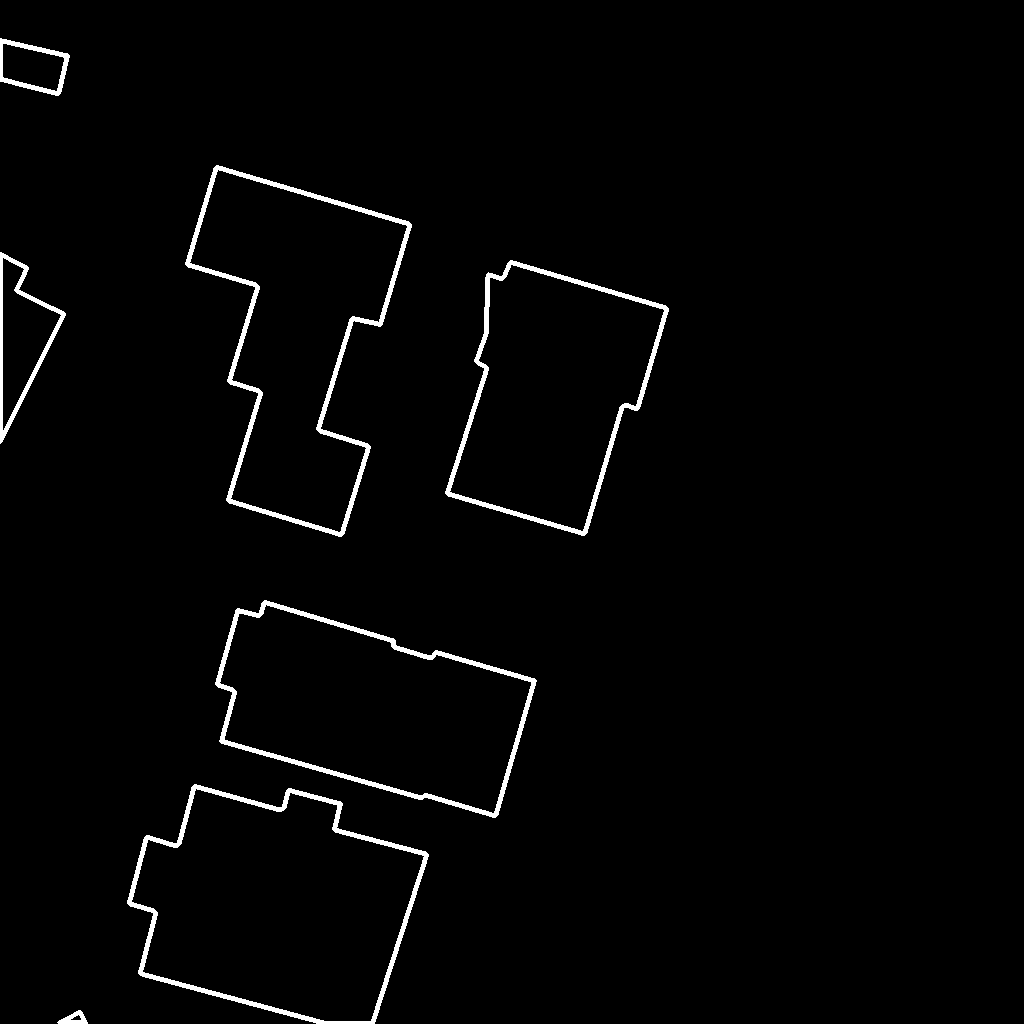building: (187, 167, 411, 536), (129, 786, 428, 1024), (217, 602, 536, 817), (447, 262, 668, 535), (0, 254, 65, 444), (0, 40, 69, 95), (59, 1012, 87, 1024)
